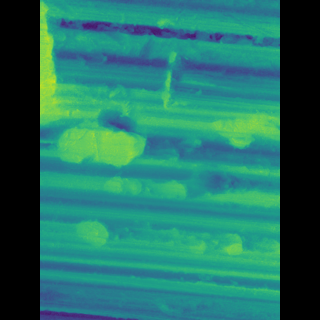Loch: (80, 115, 152, 172), (67, 0, 98, 116), (117, 172, 181, 204), (198, 108, 243, 152), (95, 218, 123, 251), (205, 231, 222, 256)
